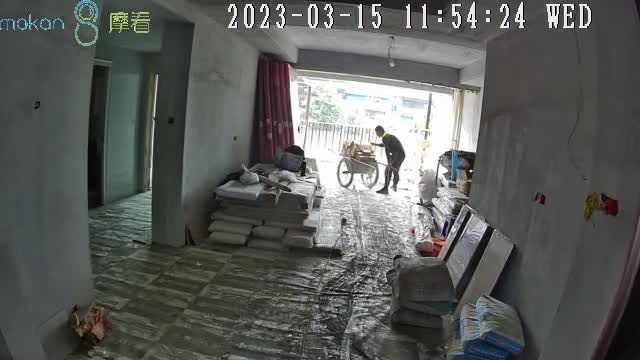people: (370, 124, 407, 195)
window: (301, 117, 436, 170)
